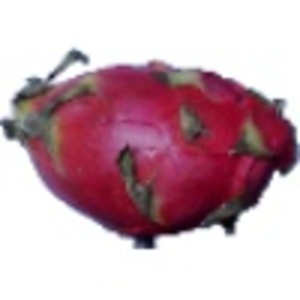pitaia: (1, 47, 300, 251)
